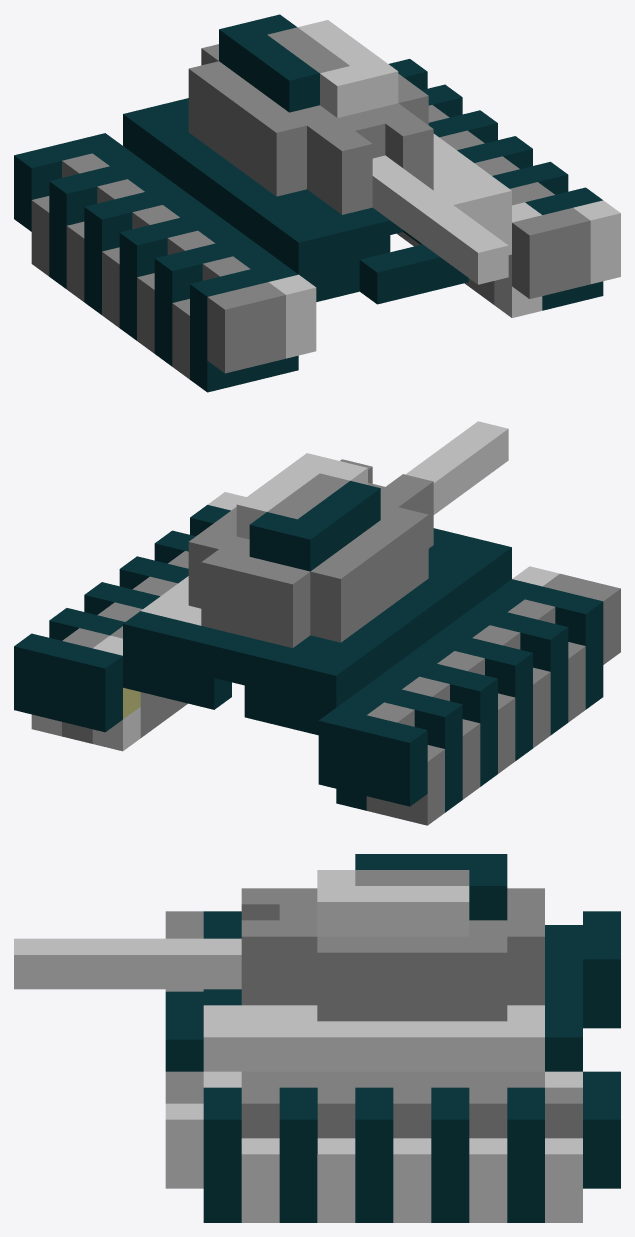
File: basic_gray_tank.glb
3 renders of one model, top to bottom at view 1: azimuth 30°, elevation 25°; view 2: azimuth 150°, elevation 25°; view 3: azimuth 270°, elevation 25°, orthographic. The views are drawn at different scales.
Visible parts, largest first — view 1: Object_2.013; view 2: Object_2.013; view 3: Object_2.013.
Part boxes in pixels (x1,y1,x2,y2): Object_2.013: [14, 14, 620, 392]; Object_2.013: [14, 421, 620, 825]; Object_2.013: [14, 854, 620, 1222].
Bounding box in the file's own units: 13 × 7 × 16.
Materials: 1 (1 with a texture image).
